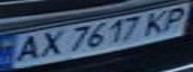1: (106, 17, 130, 46)
6: (87, 20, 112, 51)
7: (63, 24, 90, 54), (121, 14, 148, 43)
A: (3, 34, 48, 65)
K: (136, 8, 175, 37)
P: (154, 4, 193, 33)
X: (30, 28, 69, 60)
